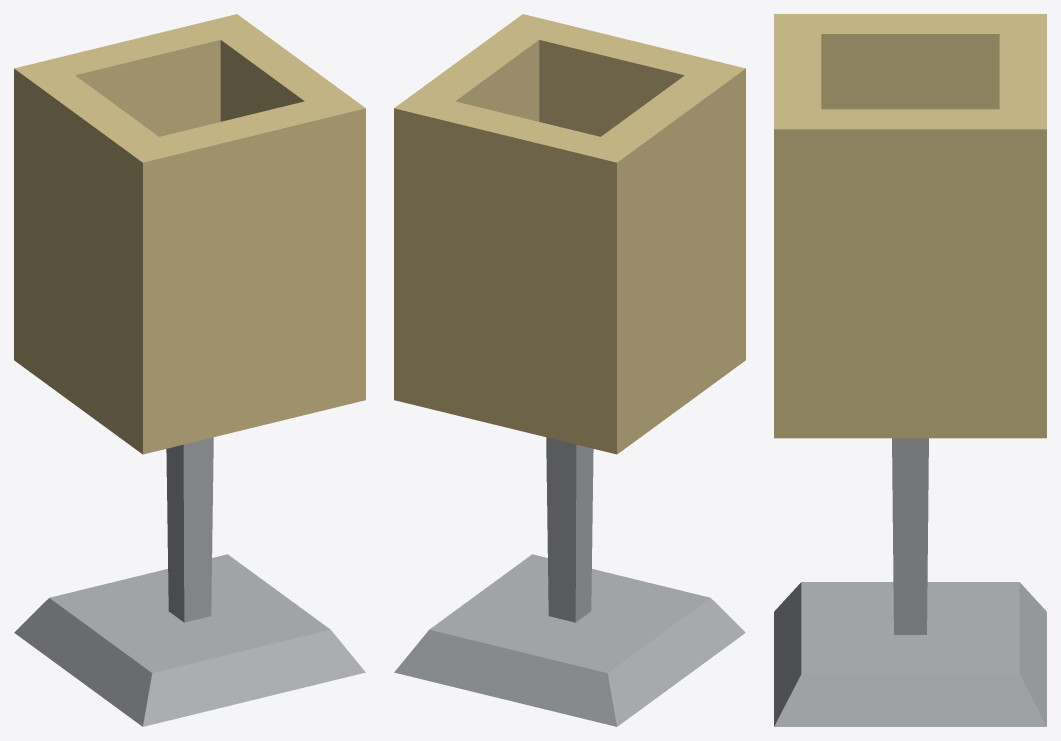
The model's file is table_lamp_square.glb.
3 renders of one model, left to right at view 1: azimuth 30°, elevation 25°; view 2: azimuth 150°, elevation 25°; view 3: azimuth 270°, elevation 25°, orthographic. The views are drawn at different scales.
Parts seen in each view (by area): view 1: table_lamp_square; view 2: table_lamp_square; view 3: table_lamp_square.
Boxes of the visible parts, <box> form: table_lamp_square: <box>14,14,365,726</box>; table_lamp_square: <box>394,14,745,726</box>; table_lamp_square: <box>774,14,1046,726</box>.
Size of the model in its own units: 0.1862 by 0.45 by 0.1862.
